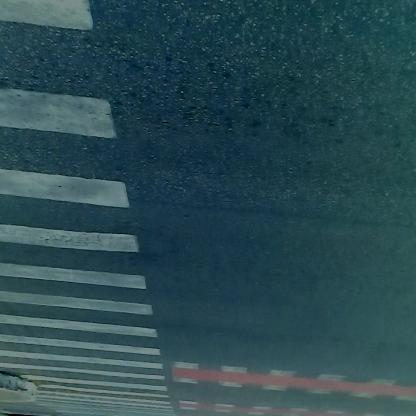crosswalk: (2, 8, 173, 382)
